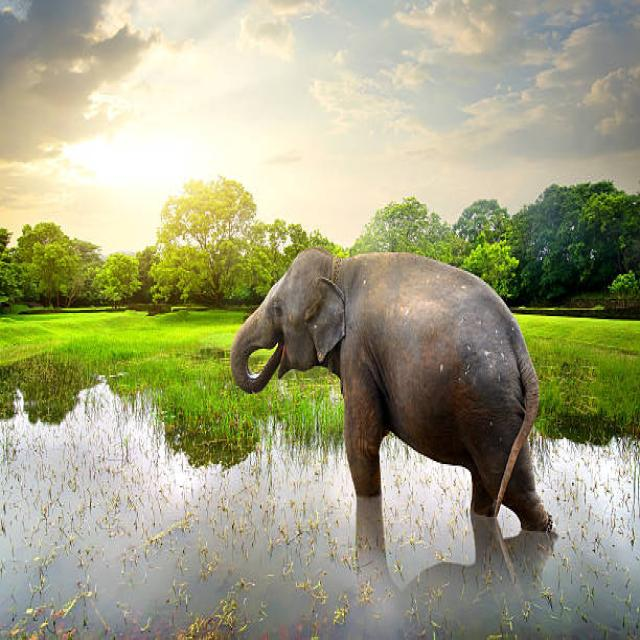Elephant: (226, 238, 568, 532)
